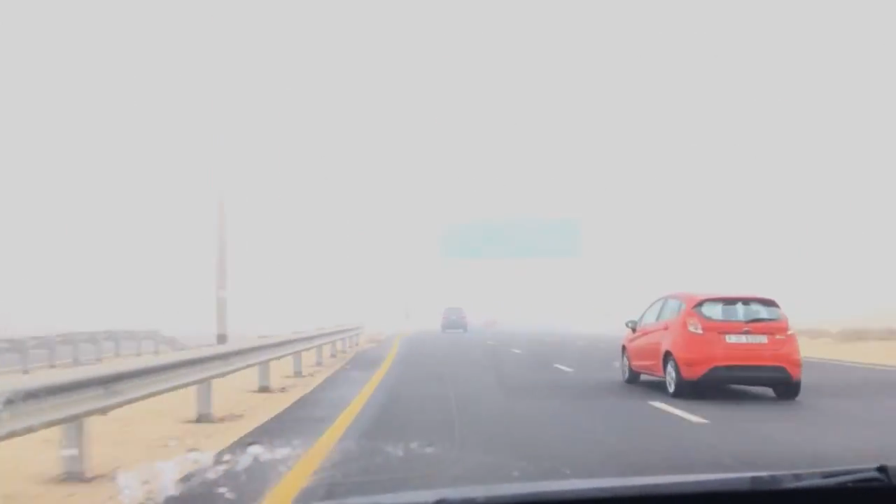car: (613, 288, 806, 402), (439, 305, 469, 334)
